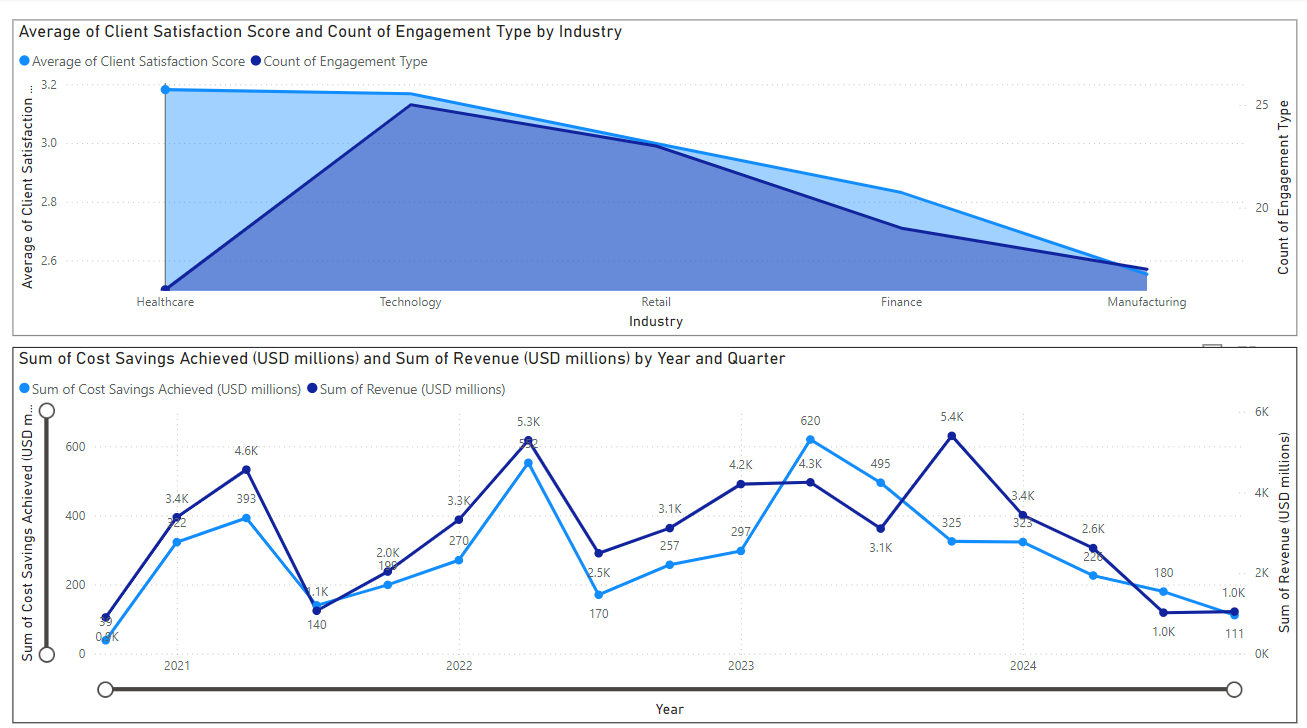

Layout of this report page (visuals, bound fields, positions):
{"tool":"powerbi","page":{"name":"Page 2","canvas":[1280,720],"ordinal":1},"visuals":[{"type":"areaChart","fields":{"Y":["Avg(consulting_analysis_extended_dataset.Client Satisfaction Score)"],"Category":["consulting_analysis_extended_dataset.Industry"],"Y2":["CountNonNull(consulting_analysis_extended_dataset.Engagement Type)"]},"box":[12.2,22,1257.1,309.4],"z":0},{"type":"lineChart","fields":{"Y":["Sum(consulting_analysis_extended_dataset.Cost Savings Achieved (USD millions))"],"Y2":["Sum(consulting_analysis_extended_dataset.Revenue (USD millions))"],"Category":["consulting_analysis_extended_dataset.Engagement Start Date.Variation.Date Hierarchy.Year","consulting_analysis_extended_dataset.Engagement Start Date.Variation.Date Hierarchy.Quarter"]},"box":[12.2,342.4,1257.1,368.1],"z":1000}]}

Visuals, with their boxes in screenshot pixels (x1, y1, x2, y2), scaled from the page's 1280x720 canvas onto the 1307x728 screenshot:
areaChart - Avg(consulting_analysis_extended_dataset.Client Satisfaction Score) x consulting_analysis_extended_dataset.Industry: Rect(12, 22, 1296, 335)
lineChart - Sum(consulting_analysis_extended_dataset.Cost Savings Achieved (USD millions)) x Sum(consulting_analysis_extended_dataset.Revenue (USD millions)): Rect(12, 346, 1296, 718)
